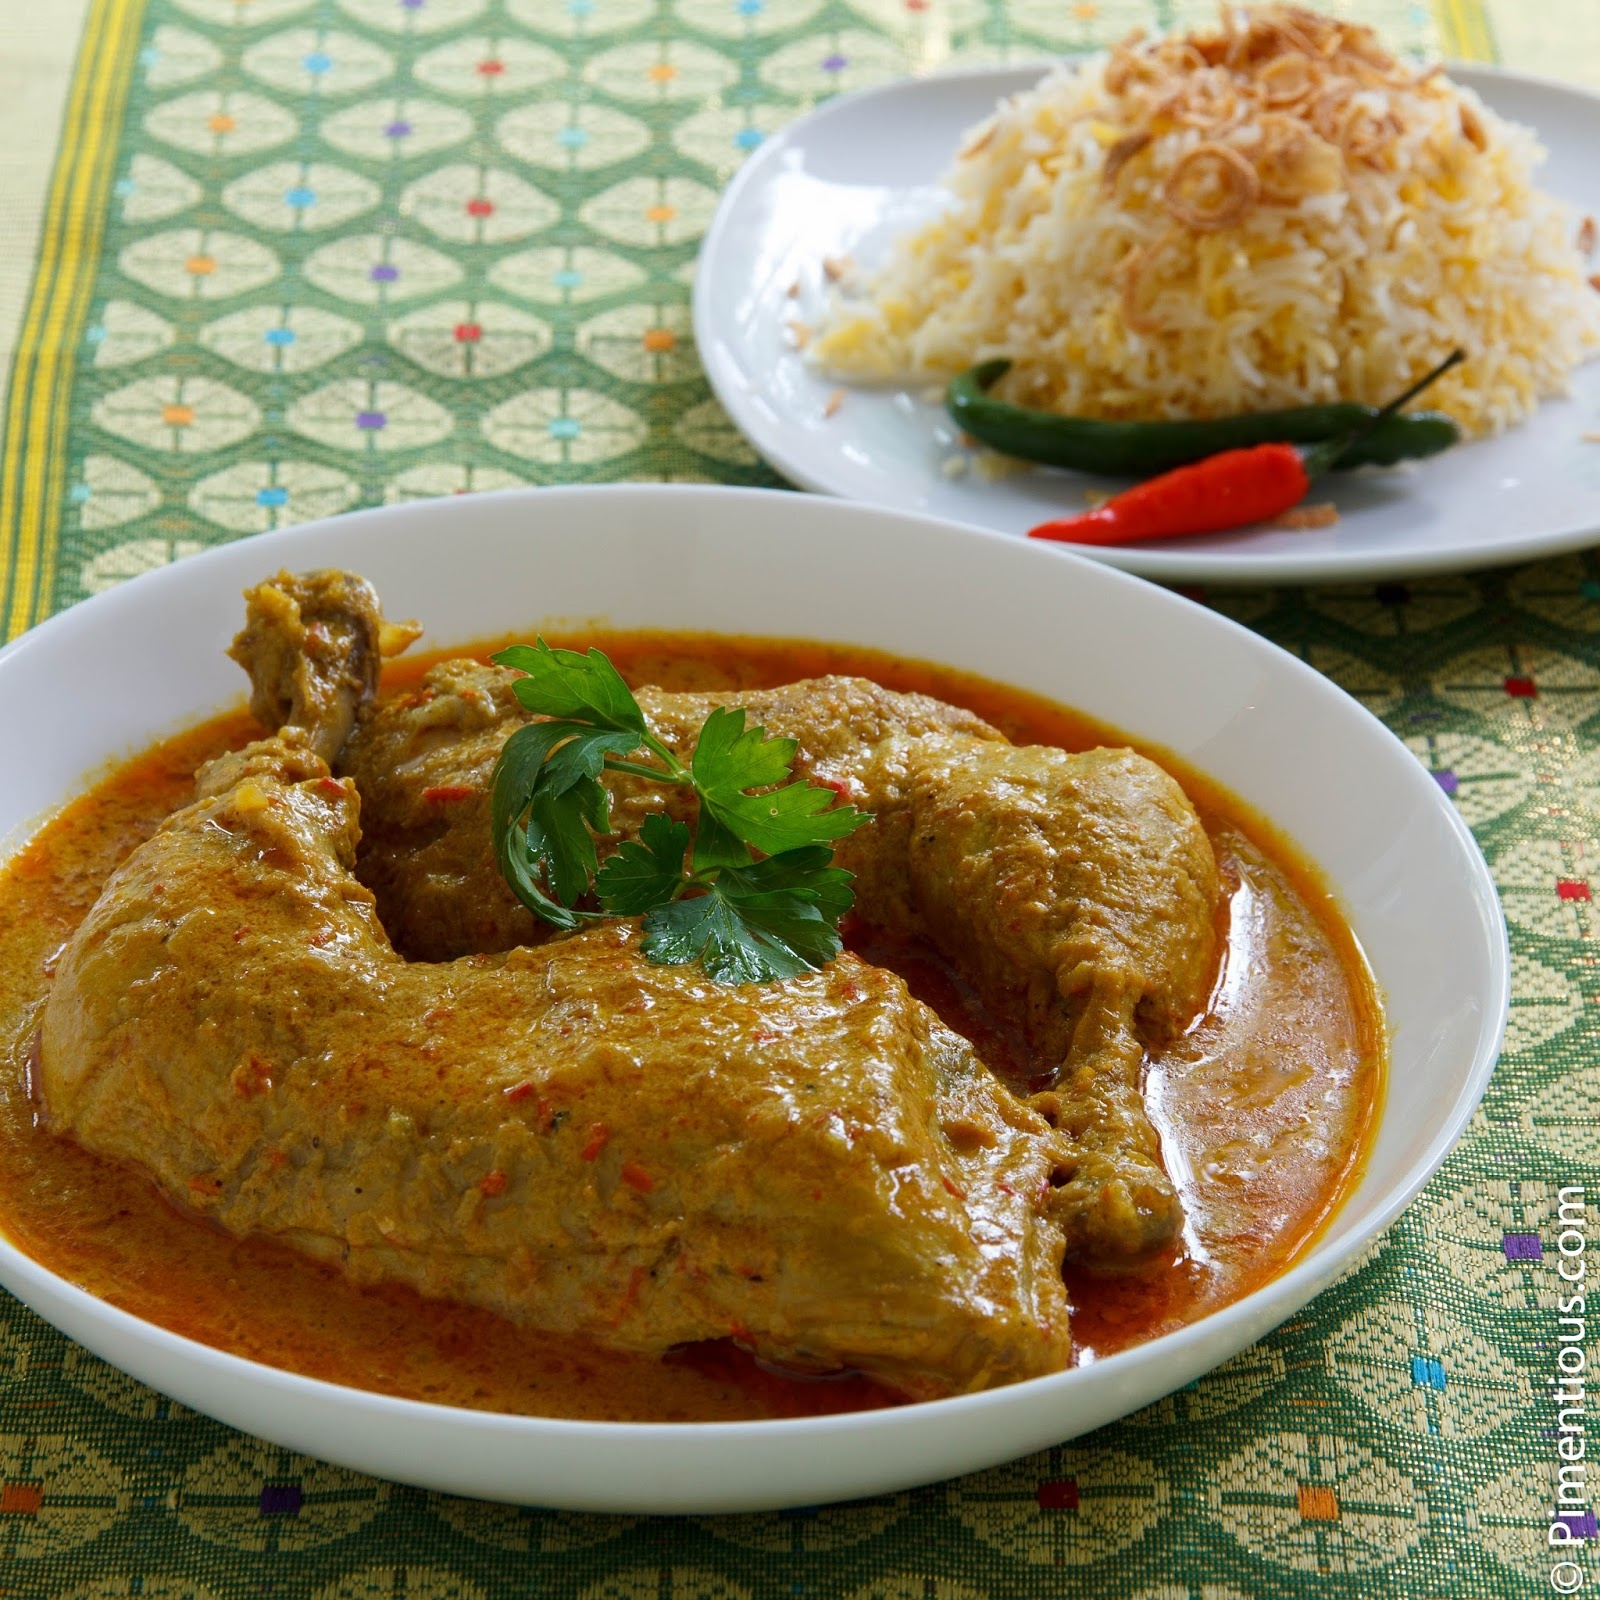gulai_ayam: (3, 615, 1377, 1437)
